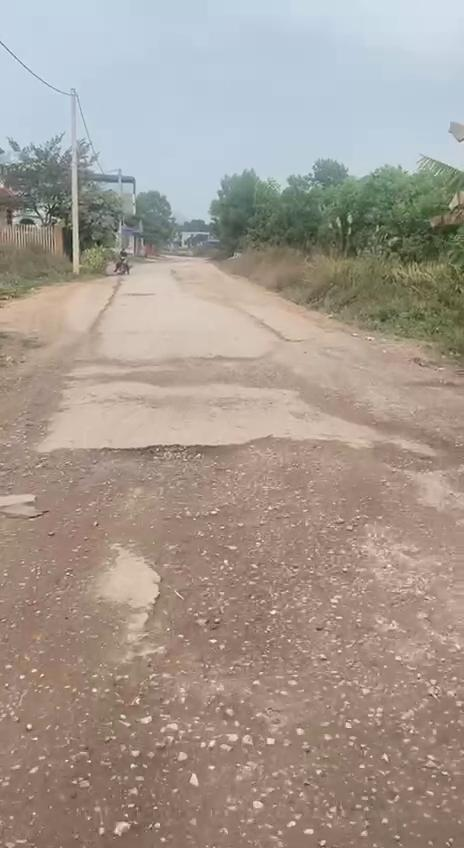pothole: (126, 546, 246, 668), (87, 441, 247, 482), (366, 439, 452, 478)
